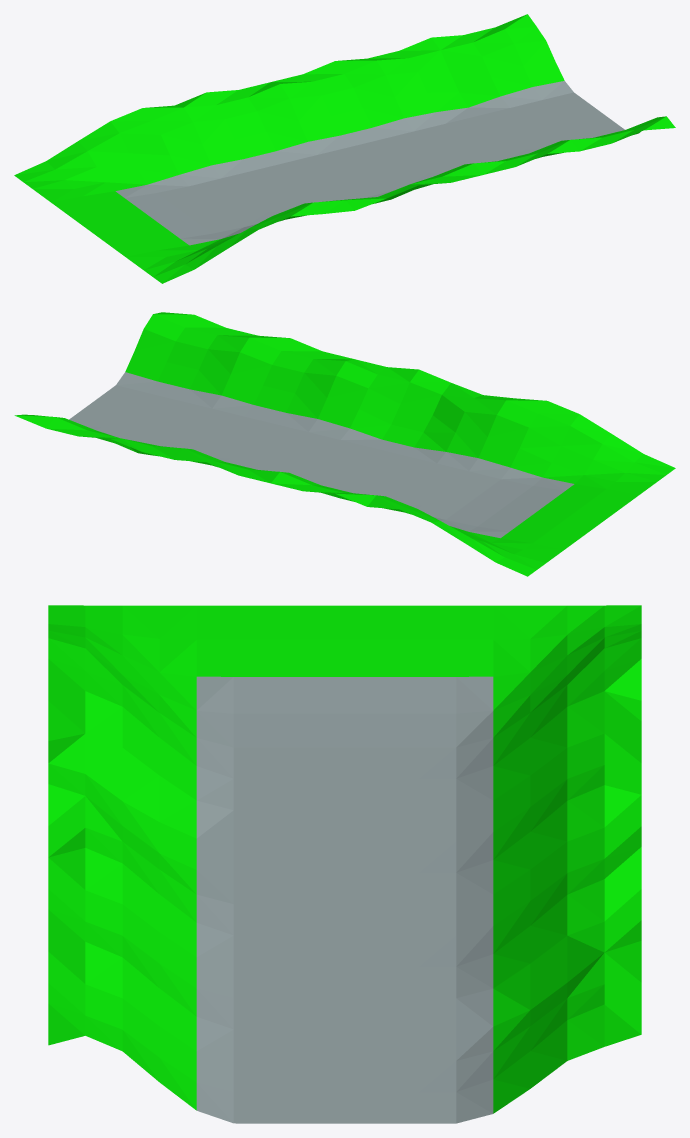
Rendered from Stage1.fbx.
3 views of the same model, one above another, from view 1: azimuth 30°, elevation 25°; view 2: azimuth 150°, elevation 25°; view 3: azimuth 270°, elevation 25° (orthographic). The views are drawn at different scales.
Visible parts, largest first — view 1: Plane; view 2: Plane; view 3: Plane.
Part boxes in pixels (x1,y1,x2,y2): Plane: [14, 14, 675, 283]; Plane: [14, 312, 675, 576]; Plane: [48, 605, 641, 1123].
Bounding box in the file's own units: 400 × 33.06 × 200.
